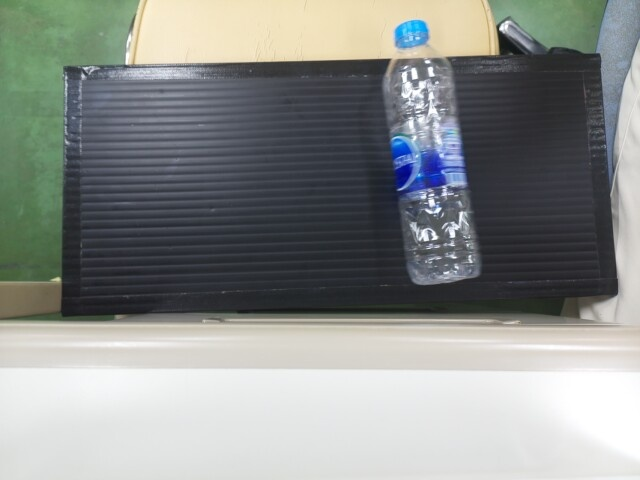plastic_bottle: (381, 15, 470, 278)
